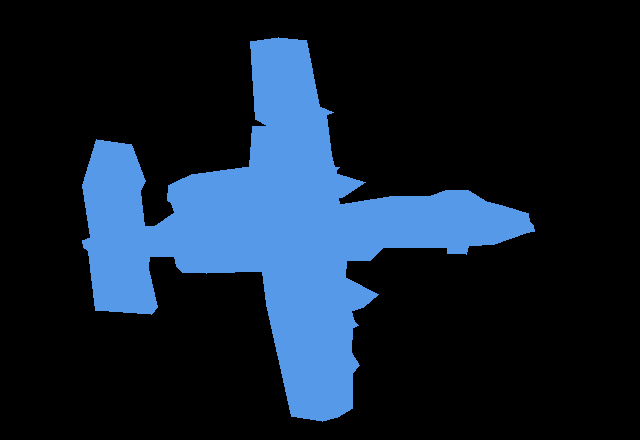Airplane: (82, 37, 535, 421)
